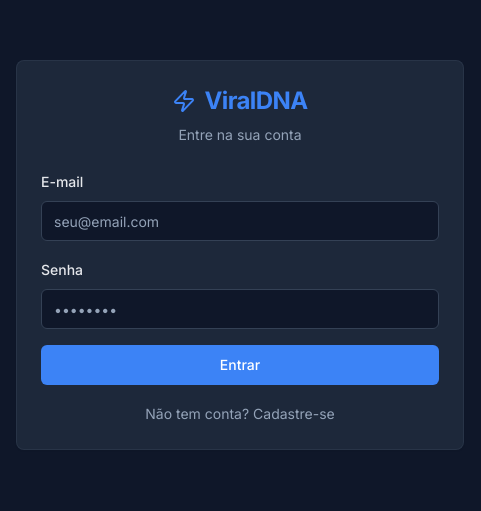
Test: LoginPage — confirmação de cadastro › não navega quando o Supabase exige confirmação por e-mail
Step 1. Click the button "Não tem conta? Cadastre-se" → (240,414), box [145, 404, 335, 424]
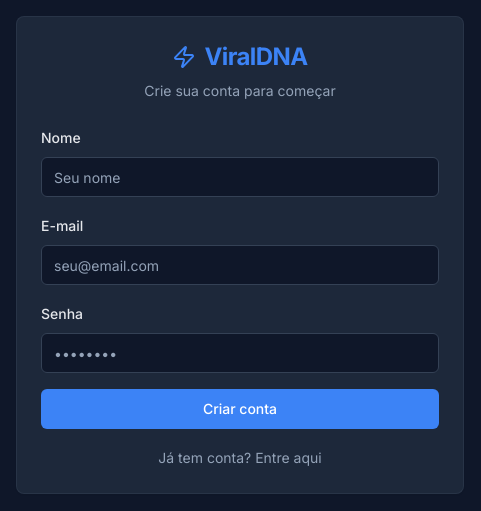
Step 2. Type "novo@exemplo.com" into the field labelled "E-mail" → (240,265), box [41, 245, 439, 285]
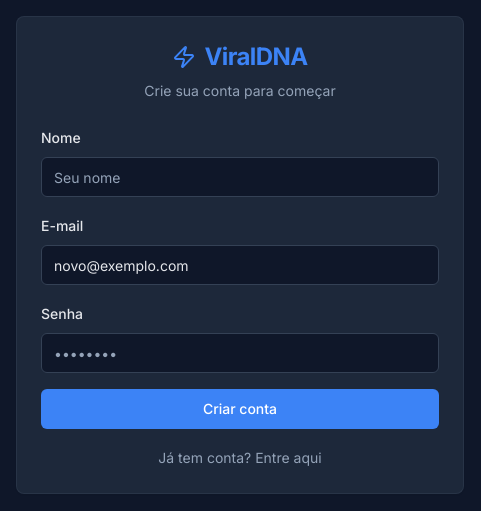
Step 3. Type "senha-segura" into the password field labelled "Senha" → (240,353), box [41, 333, 439, 373]
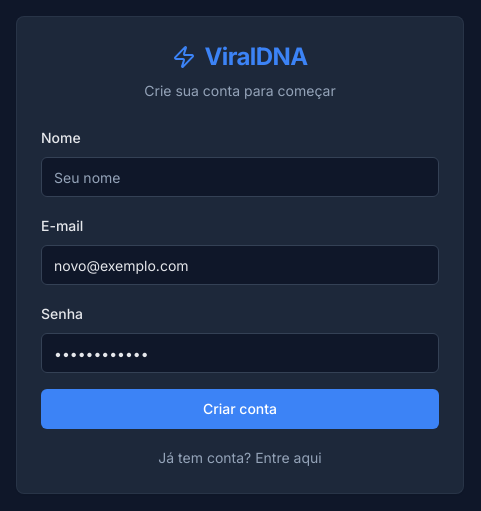
Step 4. Click the button "Criar conta" → (240,409), box [41, 389, 439, 429]
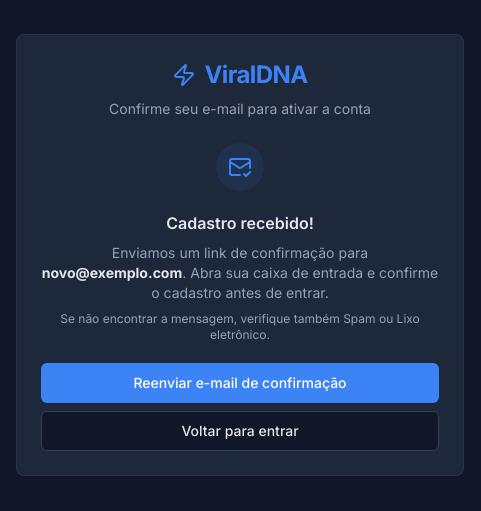
expect the text "Cadastro recebido!" is shown: met, box [166, 213, 314, 233]
expect the text "novo@exemplo.com" is shown: met, box [42, 264, 182, 281]
expect the text "confirme o cadastro antes de entrar" is shown: met, box [151, 264, 438, 301]
